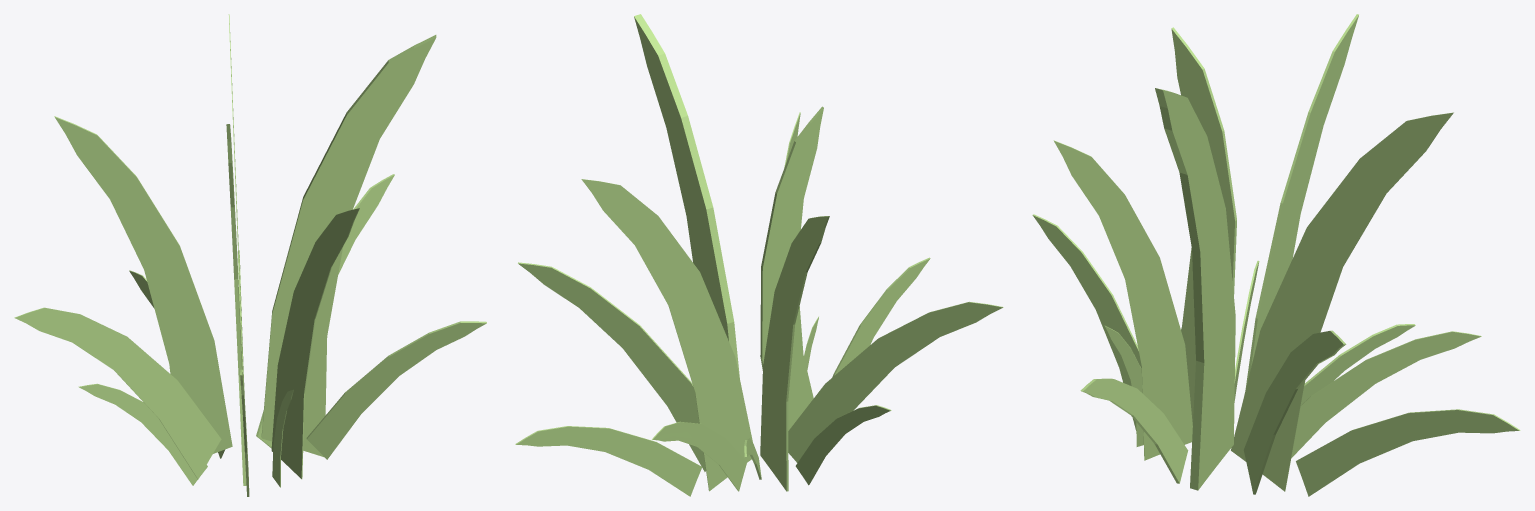
File: Gras2.fbx
3 renders of one model, left to right at view 1: azimuth 30°, elevation 25°; view 2: azimuth 150°, elevation 25°; view 3: azimuth 270°, elevation 25°, orthographic. The views are drawn at different scales.
Parts seen in each view (by area): view 1: Gras; view 2: Gras; view 3: Gras.
Boxes of the visible parts, bbox=[...] form: Gras: bbox=[14, 14, 486, 496]; Gras: bbox=[515, 14, 1003, 496]; Gras: bbox=[1032, 14, 1520, 496].
Bounding box in the file's own units: 37.3 × 34.21 × 31.89.
